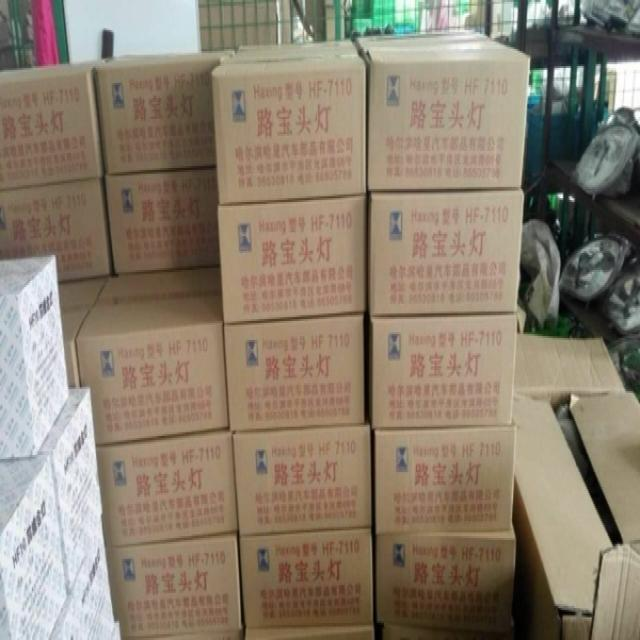box: (511, 332, 640, 640), (354, 28, 531, 189), (78, 264, 229, 444), (211, 40, 367, 206), (368, 193, 526, 312), (220, 196, 367, 323), (365, 313, 517, 430), (95, 49, 236, 174), (99, 430, 238, 549), (224, 315, 364, 432), (377, 419, 515, 532), (230, 425, 371, 534), (377, 529, 516, 634), (0, 59, 112, 189), (108, 534, 241, 640), (1, 255, 70, 459), (239, 529, 372, 625), (0, 457, 69, 640), (102, 166, 219, 272), (43, 389, 102, 593), (0, 179, 114, 279), (59, 279, 108, 387), (70, 529, 116, 638), (49, 593, 85, 640), (245, 627, 374, 640), (383, 627, 509, 640), (0, 547, 12, 638)
